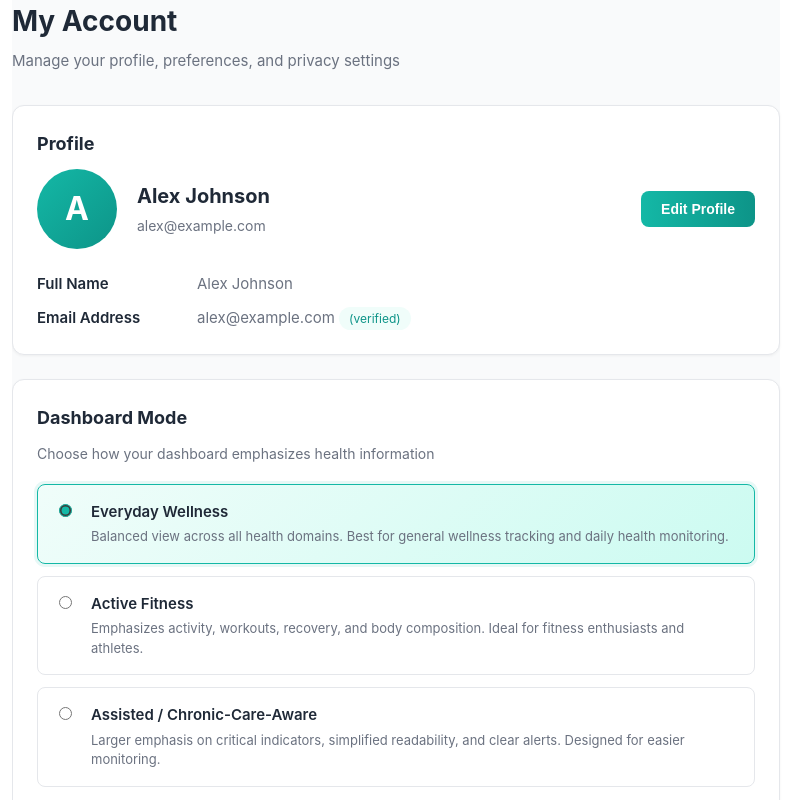
Scenario: MyAccountPage — edit profile form › shows a validation error when name is fewer than 2 characters
Click the button "Edit Profile": (698,208) [641,190,755,226]
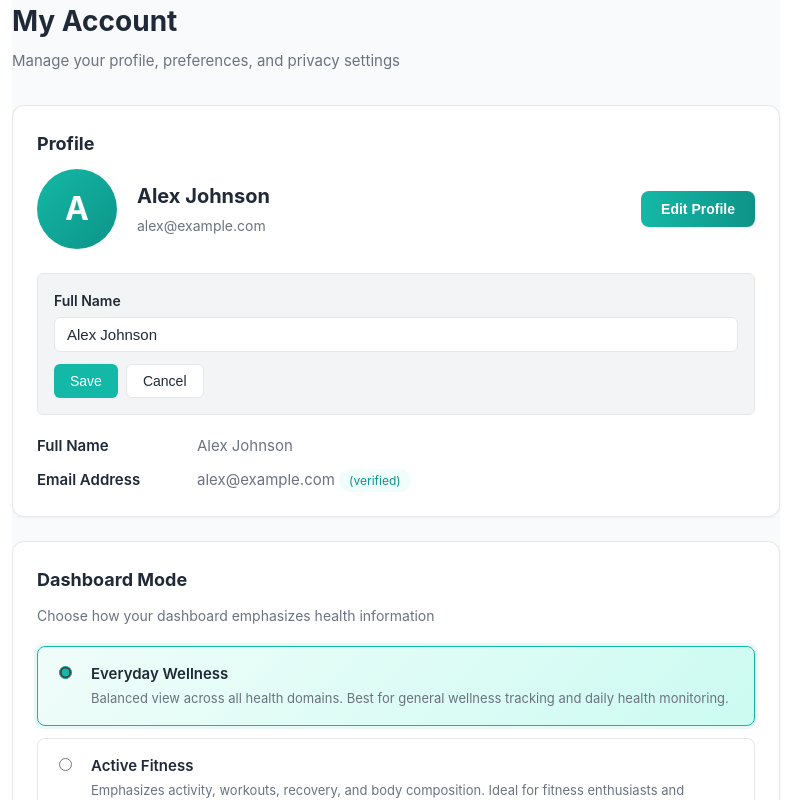
Replace the text in the field labelled "Full Name" with "A": (396,334) [54,316,738,352]
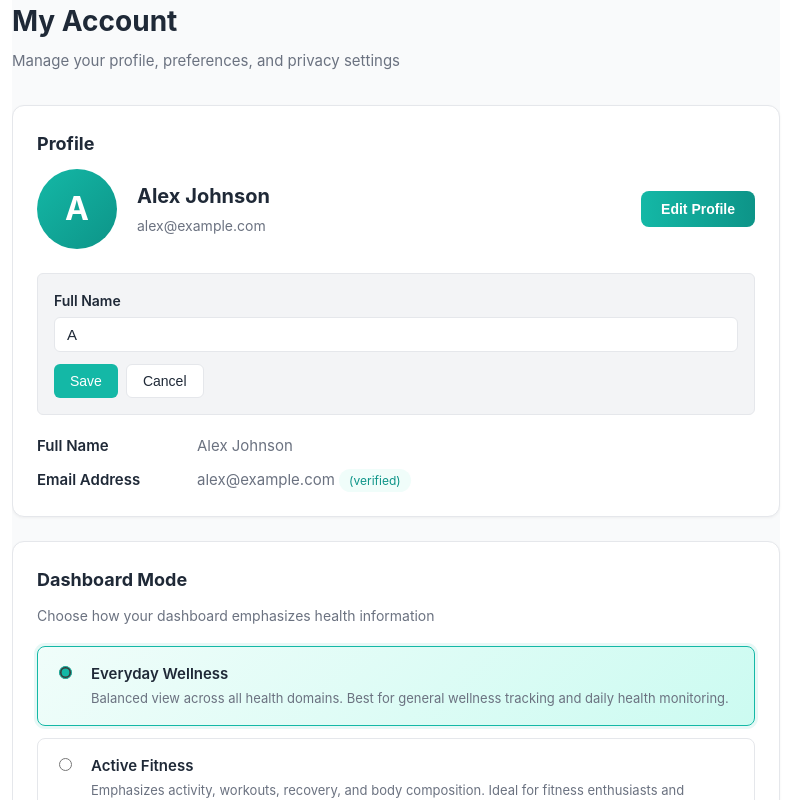
Click the button "Save": (86,380) [54,364,118,398]
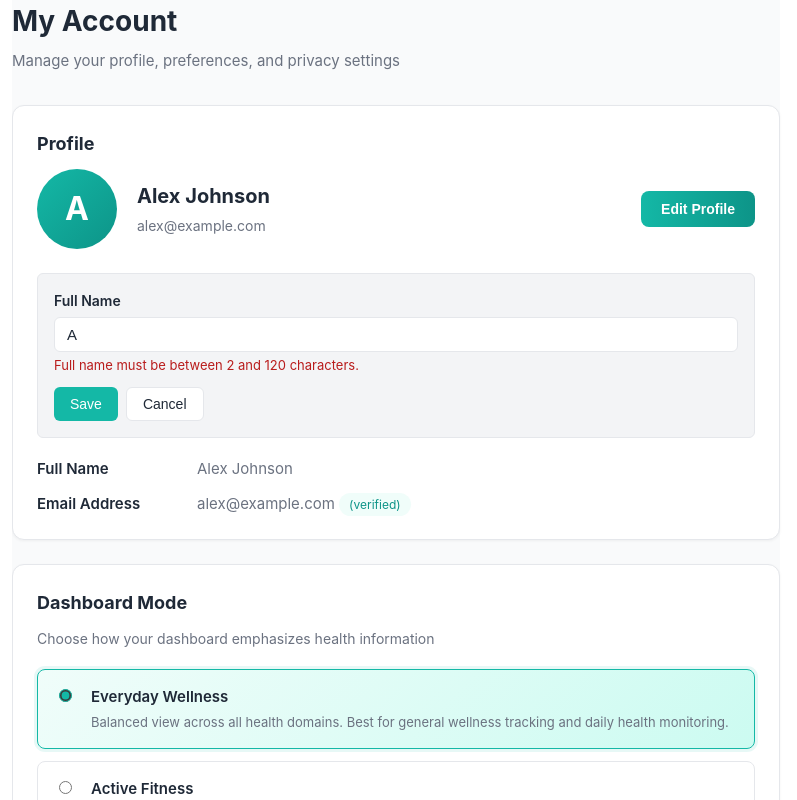
Result: the text "Full name must be between 2 and 120 characters." is shown at [54,356,359,372]
